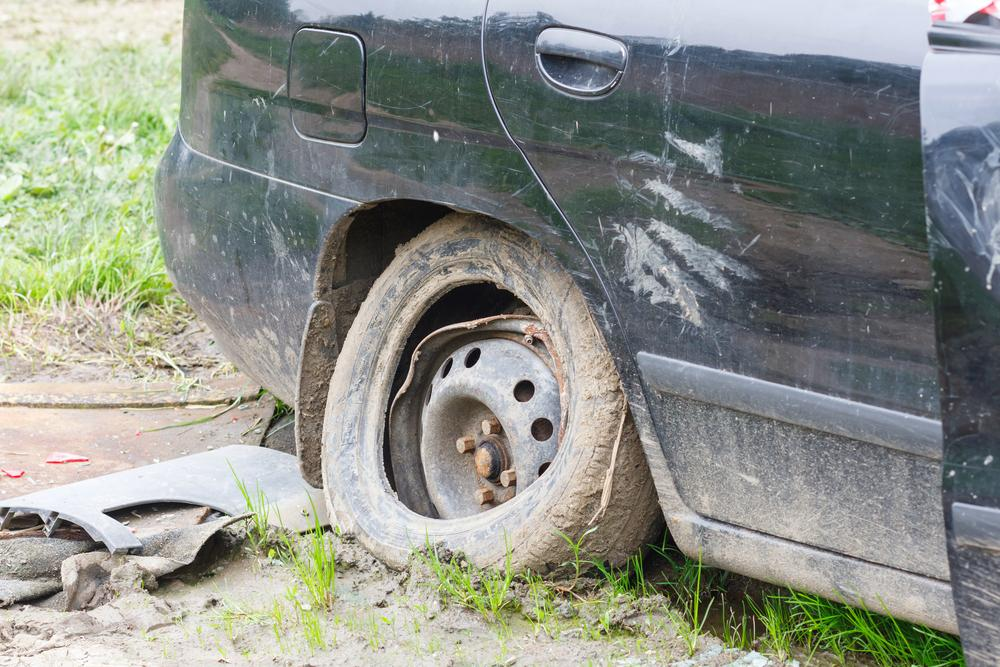scratch: (609, 124, 765, 334)
tire flat: (318, 214, 651, 585)
